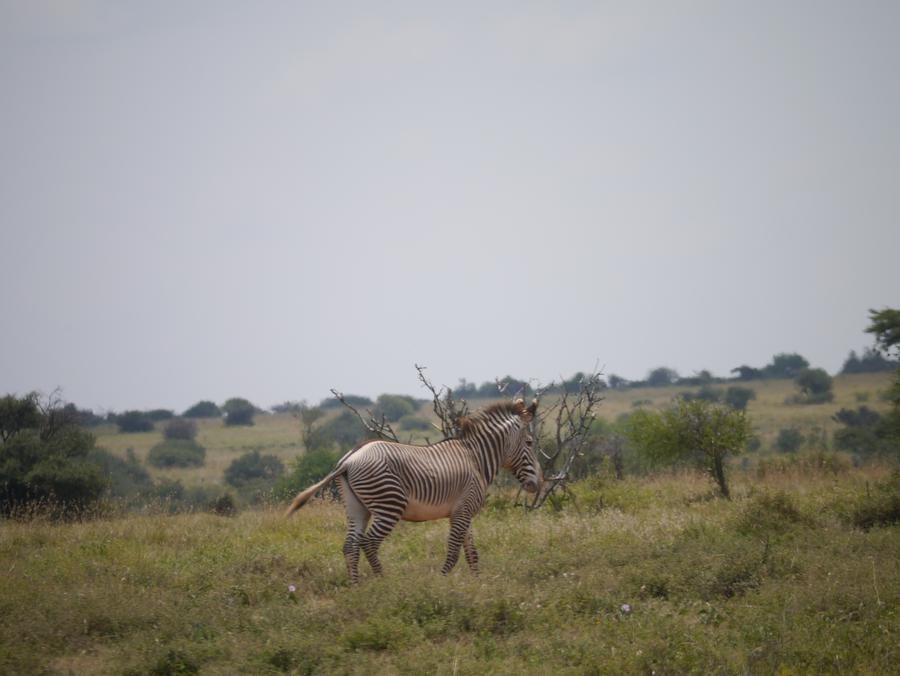zebra_grevys: (343, 435, 480, 516)
